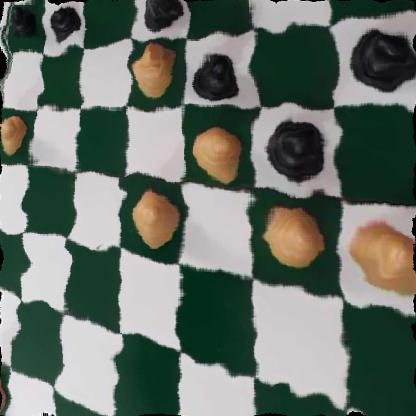black-knight: (137, 0, 182, 31)
black-pawn: (343, 18, 416, 89), (268, 117, 328, 182), (187, 46, 244, 103), (6, 0, 42, 46), (49, 0, 82, 47)
white-bishop: (130, 35, 178, 97)
white-pawn: (346, 212, 416, 308), (259, 197, 328, 277), (185, 119, 244, 181), (130, 183, 177, 243), (0, 115, 27, 156)
white-rook: (0, 354, 5, 416)
